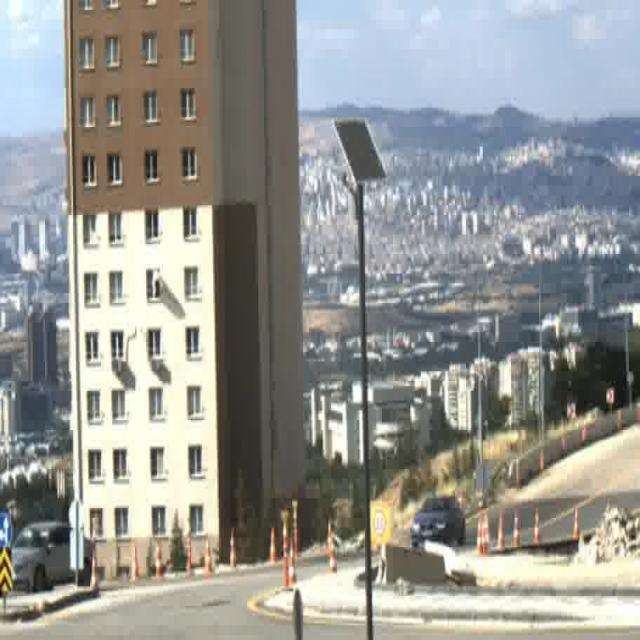Car: (10, 519, 96, 589), (411, 493, 467, 549)
